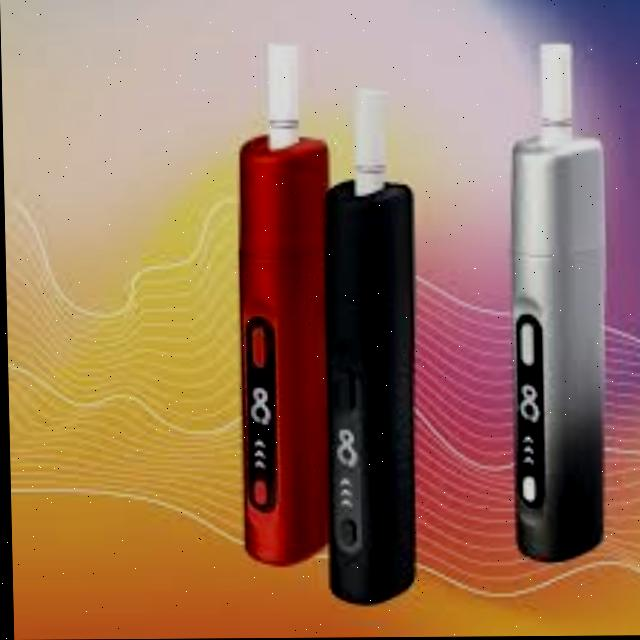vape: (504, 38, 607, 566), (236, 41, 333, 568), (320, 76, 416, 606)
